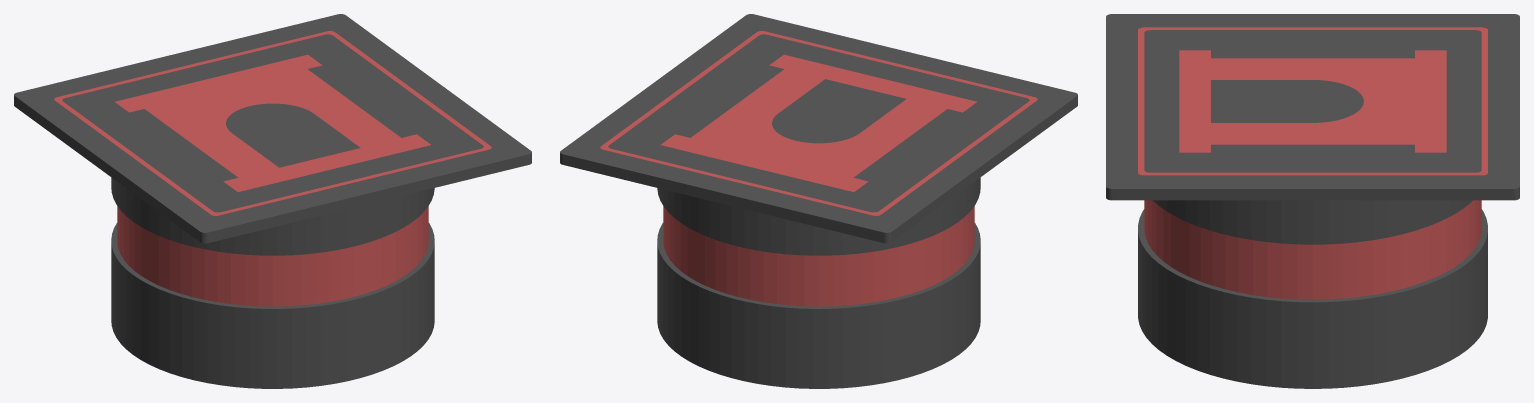
Rendered from bomboniera-architettura-facolta-montato.glb.
The picture shows the model from 3 angles, left to right: view 1: azimuth 30°, elevation 25°; view 2: azimuth 150°, elevation 25°; view 3: azimuth 270°, elevation 25°; orthographic projection. The views are drawn at different scales.
Parts seen in each view (by area): view 1: struttura_coperchio, struttura_base, fascia, simbolo_intarsio, bordo; view 2: struttura_coperchio, struttura_base, fascia, simbolo_intarsio, bordo; view 3: struttura_coperchio, struttura_base, fascia, simbolo_intarsio, bordo.
Boxes of the visible parts, left/top/right/bottom form: struttura_coperchio: left=14, top=14, right=531, bottom=255; struttura_base: left=111, top=223, right=434, bottom=388; fascia: left=117, top=206, right=428, bottom=306; simbolo_intarsio: left=115, top=54, right=430, bottom=191; bordo: left=54, top=31, right=491, bottom=215; struttura_coperchio: left=560, top=14, right=1077, bottom=255; struttura_base: left=657, top=223, right=980, bottom=388; fascia: left=663, top=206, right=974, bottom=306; simbolo_intarsio: left=661, top=54, right=976, bottom=191; bordo: left=600, top=31, right=1037, bottom=215; struttura_coperchio: left=1106, top=14, right=1519, bottom=244; struttura_base: left=1138, top=209, right=1487, bottom=388; fascia: left=1144, top=200, right=1481, bottom=299; simbolo_intarsio: left=1179, top=50, right=1446, bottom=152; bordo: left=1138, top=27, right=1487, bottom=175.
Bounding box in the file's own units: 0.065 × 0.037 × 0.065.
